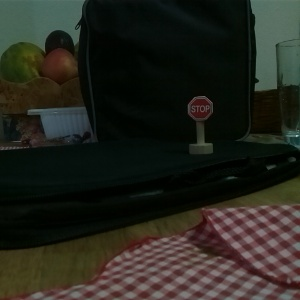stop sign: (185, 94, 215, 158)
